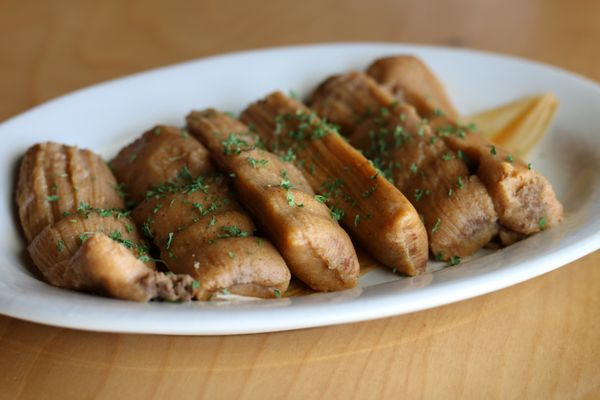curry: (2, 10, 600, 393)
